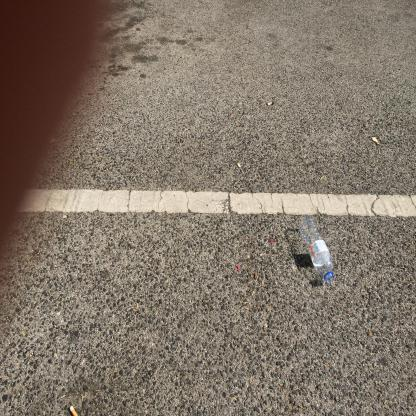plastik: (298, 214, 334, 284)
